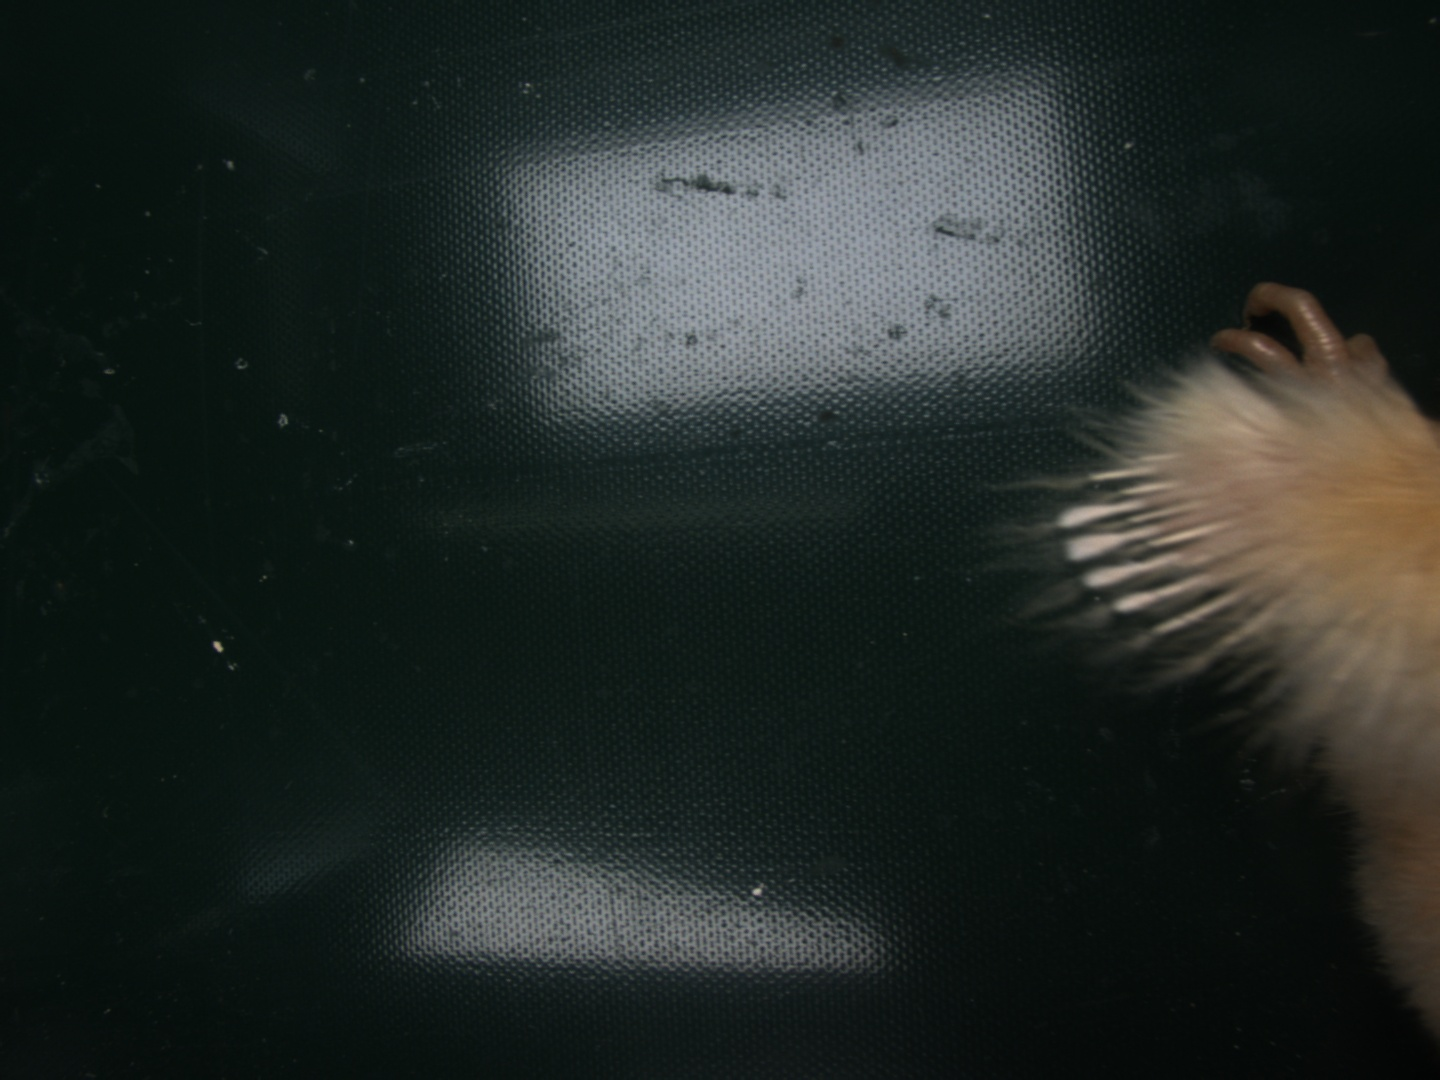female: (1056, 452, 1291, 672)
